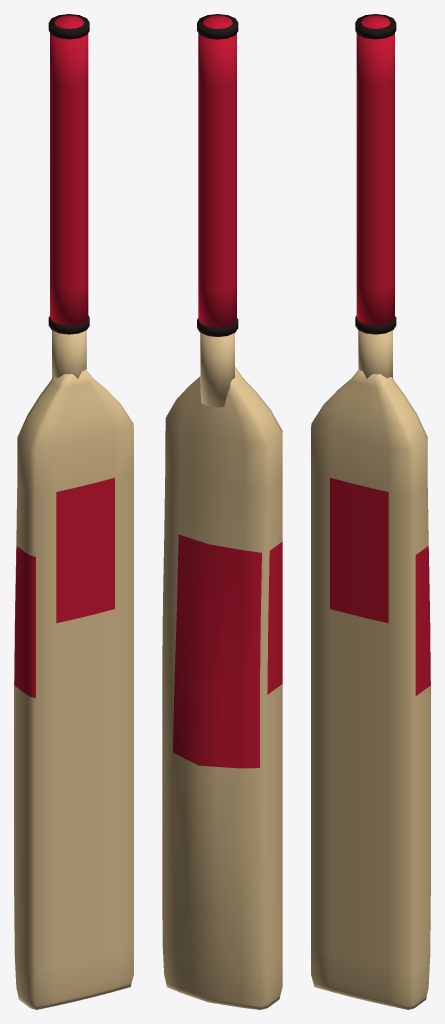
The model's file is bat.glb.
The picture shows the model from 3 angles, left to right: view 1: azimuth 30°, elevation 25°; view 2: azimuth 150°, elevation 25°; view 3: azimuth 330°, elevation 25°; orthographic projection.
Parts seen in each view (by area): view 1: bat; view 2: bat; view 3: bat.
Part boxes in pixels (x1,y1,x2,y2): bat: (14, 14, 133, 1009); bat: (162, 14, 282, 1009); bat: (311, 14, 430, 1009).
Bounding box in the file's own units: 0.108 × 0.96 × 0.0652.
1 material, 1 textured.
